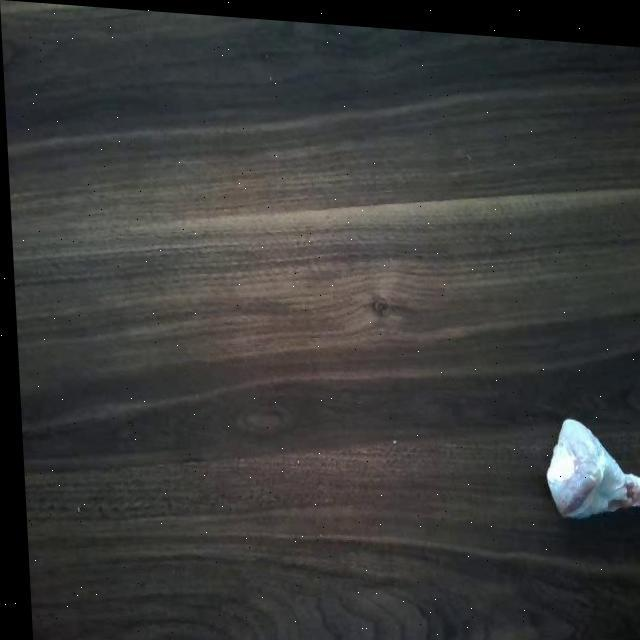leg: (539, 406, 640, 532)
